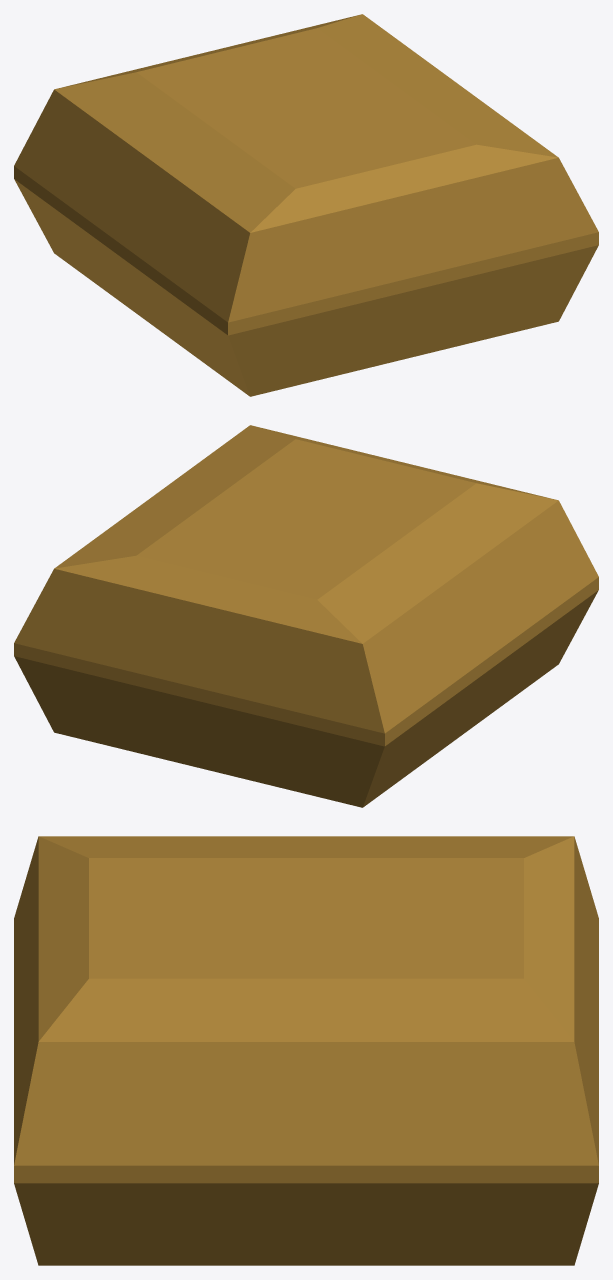
File: Sand Bag Half.fbx
3 views of the same model, one above another, from view 1: azimuth 30°, elevation 25°; view 2: azimuth 150°, elevation 25°; view 3: azimuth 270°, elevation 25° (orthographic). The views are drawn at different scales.
Parts seen in each view (by area): view 1: Sand Bag Half; view 2: Sand Bag Half; view 3: Sand Bag Half.
Part boxes in pixels (bbox=[...]): Sand Bag Half: bbox=[14, 14, 598, 396]; Sand Bag Half: bbox=[14, 425, 598, 807]; Sand Bag Half: bbox=[14, 836, 598, 1265].
Size of the model in its own units: 100 by 50 by 100.
